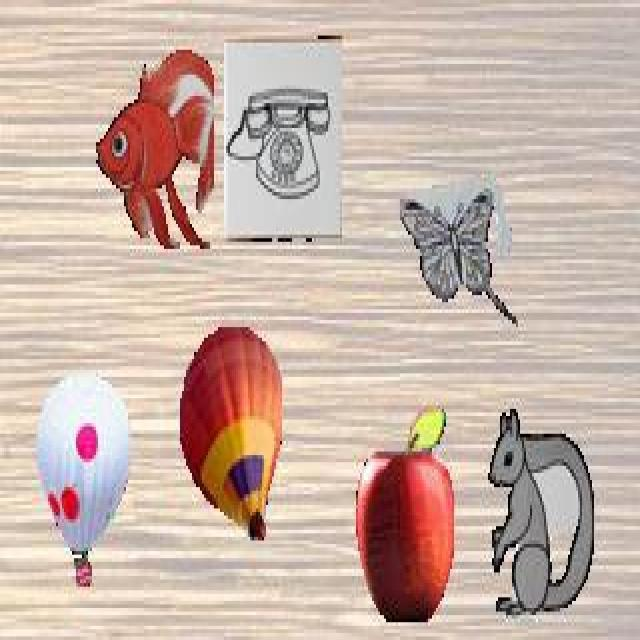Other Objects: (225, 36, 342, 242), (178, 325, 284, 542), (354, 403, 453, 622), (35, 371, 130, 587), (401, 184, 518, 331)
